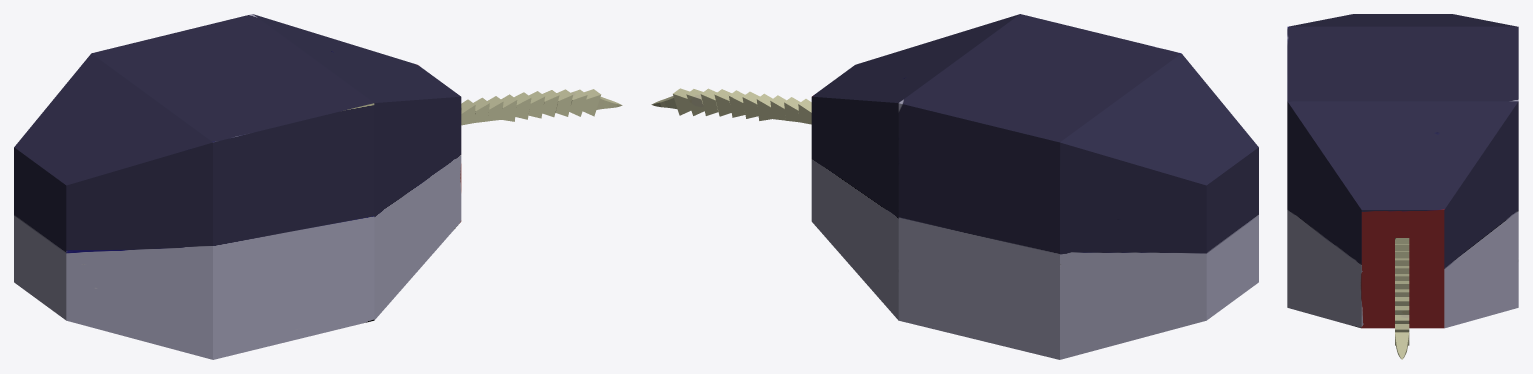
File: 1DamagedWhale.obj
3 views of the same model, side by side, from view 1: azimuth 30°, elevation 25°; view 2: azimuth 150°, elevation 25°; view 3: azimuth 270°, elevation 25° (orthographic). The views are drawn at different scales.
Visible parts, largest first — view 1: 立方体.001; view 2: 立方体.001; view 3: 立方体.001.
Part boxes in pixels (<box>): 立方体.001: <box>14,14,622,359</box>; 立方体.001: <box>651,14,1258,359</box>; 立方体.001: <box>1287,14,1518,359</box>.
Bounding box in the file's own units: 8.45 × 3.02 × 3.06.
